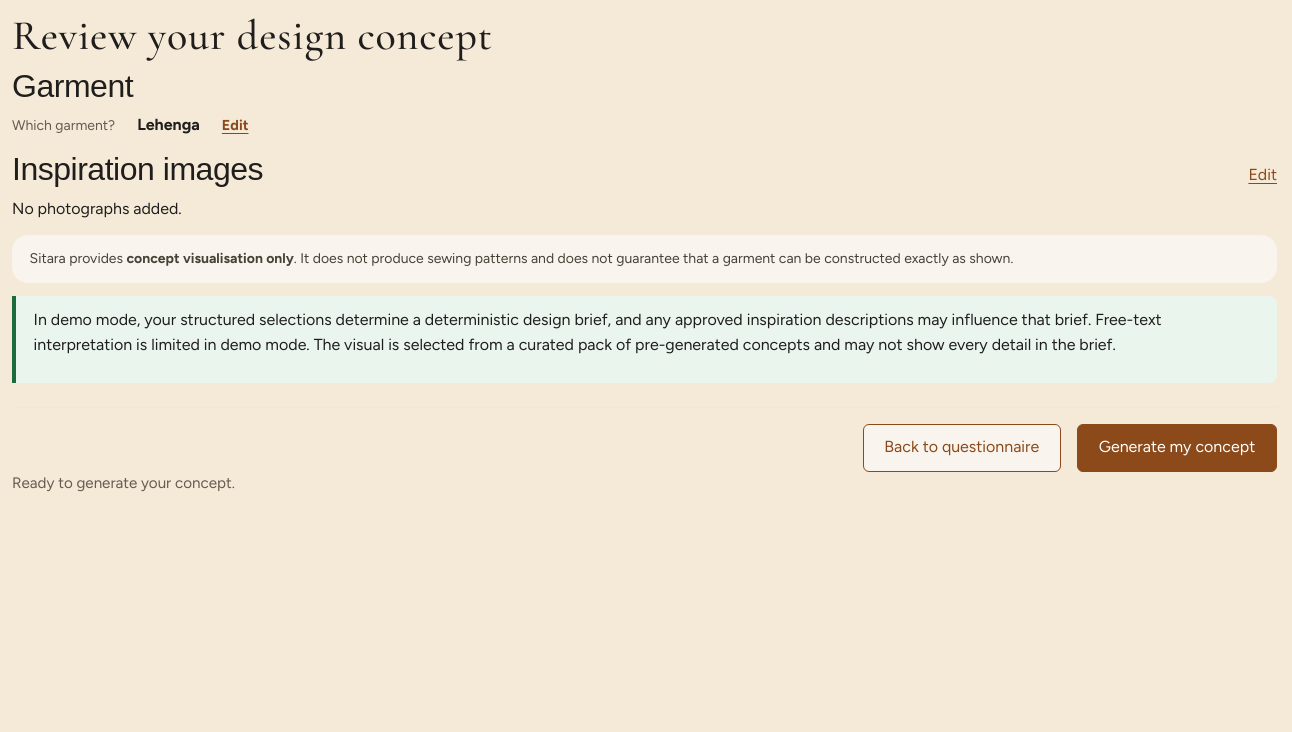
ReviewSummary › Generate my concept › offers no retry control for live_generation_disabled, which an immediate retry cannot clear
Click the button "Generate my concept".
click(1177, 448)  # box left=1077, top=424, right=1277, bottom=472
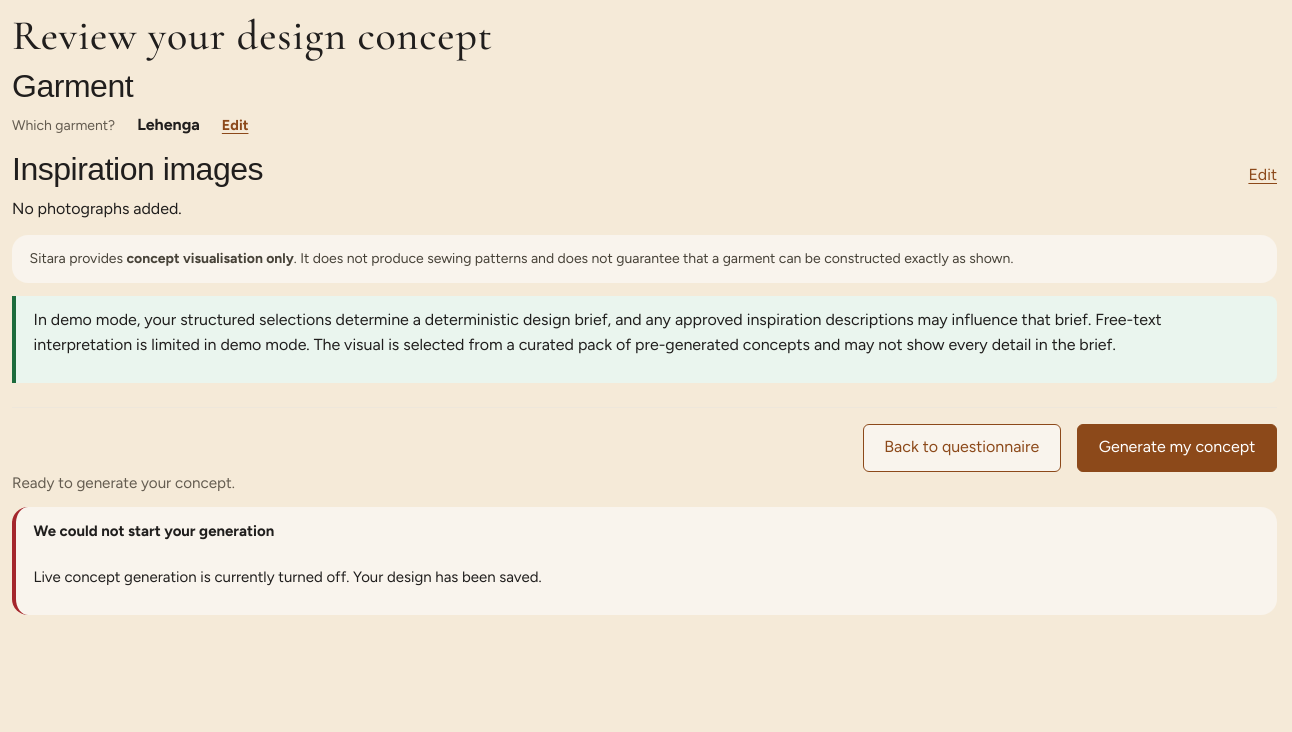
Result: the text "currently turned off" is shown at left=34, top=568, right=542, bottom=586
